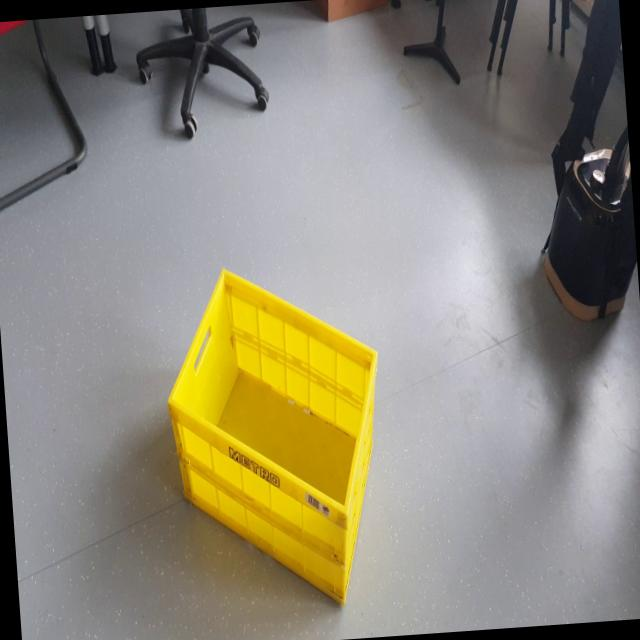box: (154, 238, 397, 629)
